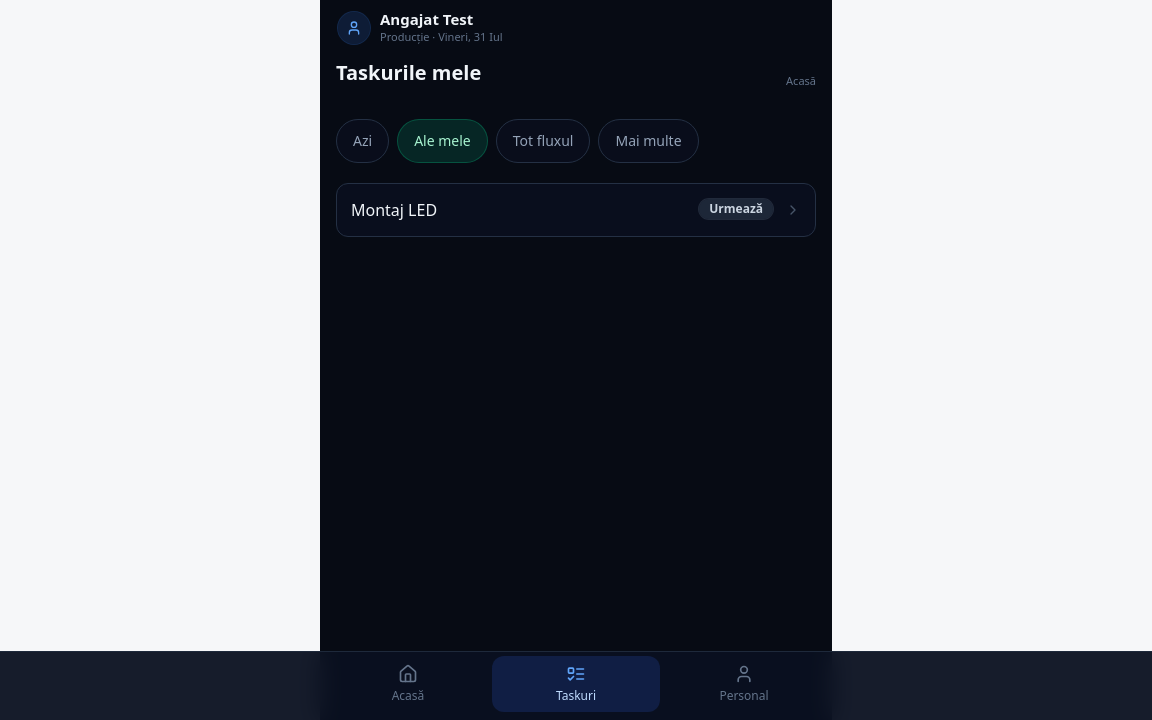
EmployeeMobileApp shell › shows open clarification status in task detail
Click the button with test id "employee-mobile-task-card-T-006" at {"x": 394, "y": 210}, box [337, 184, 815, 236]
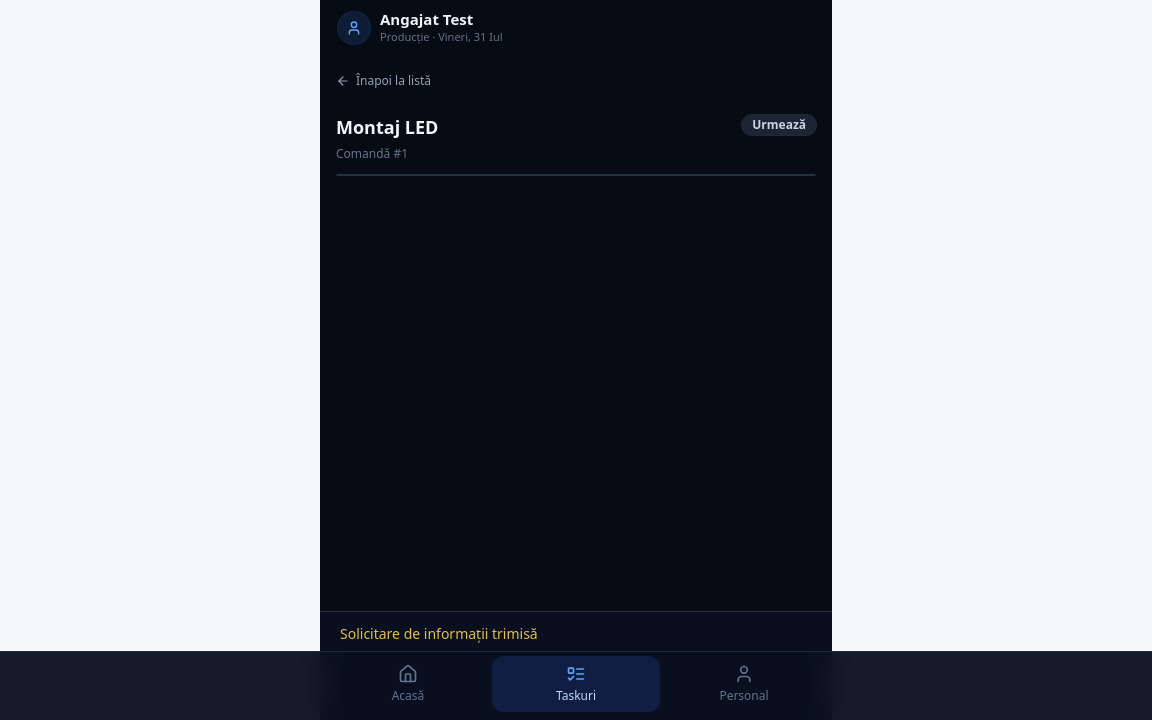
Check: the text with test id "employee-mobile-task-clarification-open" reads "Solicitare de informații trimisă", box [340, 624, 538, 643]
